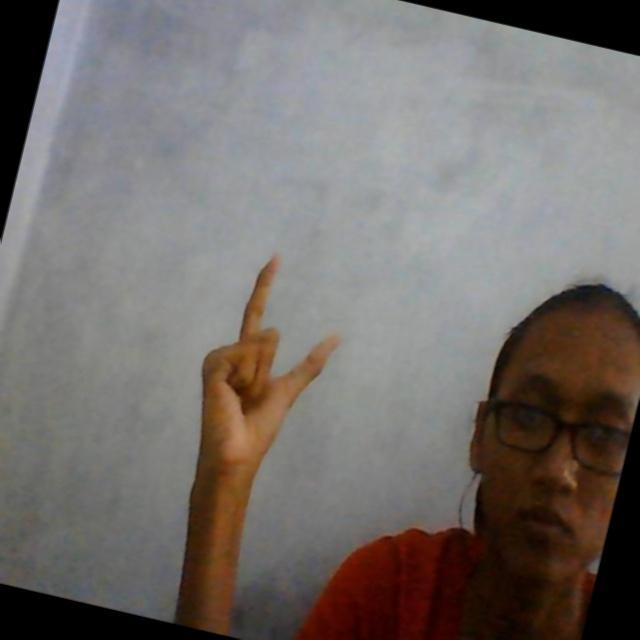U: (215, 248, 342, 404)
